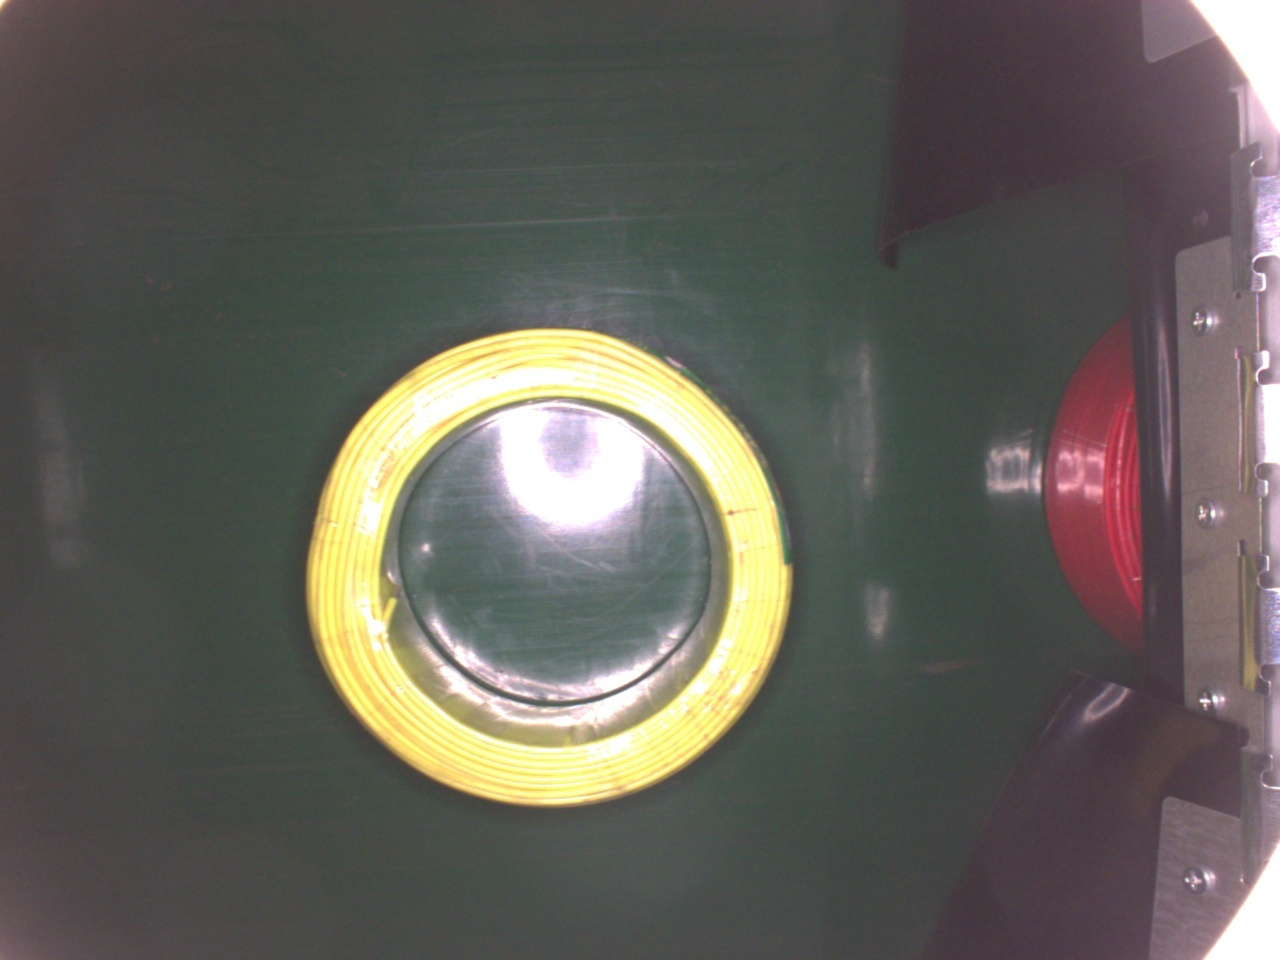yellow: (300, 321, 795, 810)
